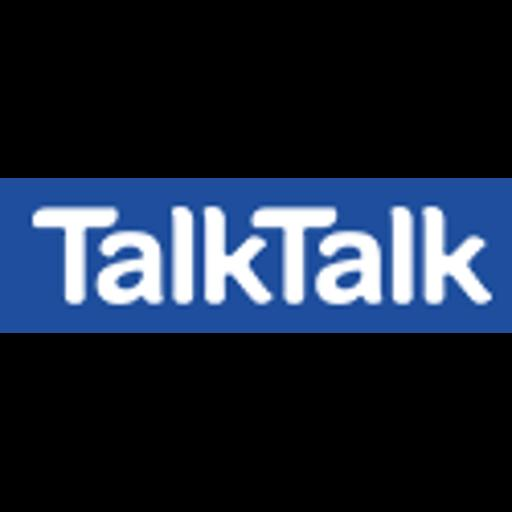TalkTalk Communications: (0, 178, 512, 333)
